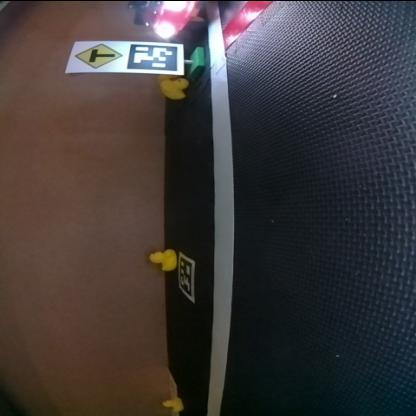Duckie: (148, 247, 176, 270), (160, 77, 186, 97), (161, 396, 183, 411)
Duckiebot: (130, 1, 209, 36)
Intersection sign: (72, 41, 122, 68)
QR code: (126, 43, 178, 69), (178, 254, 194, 298)
